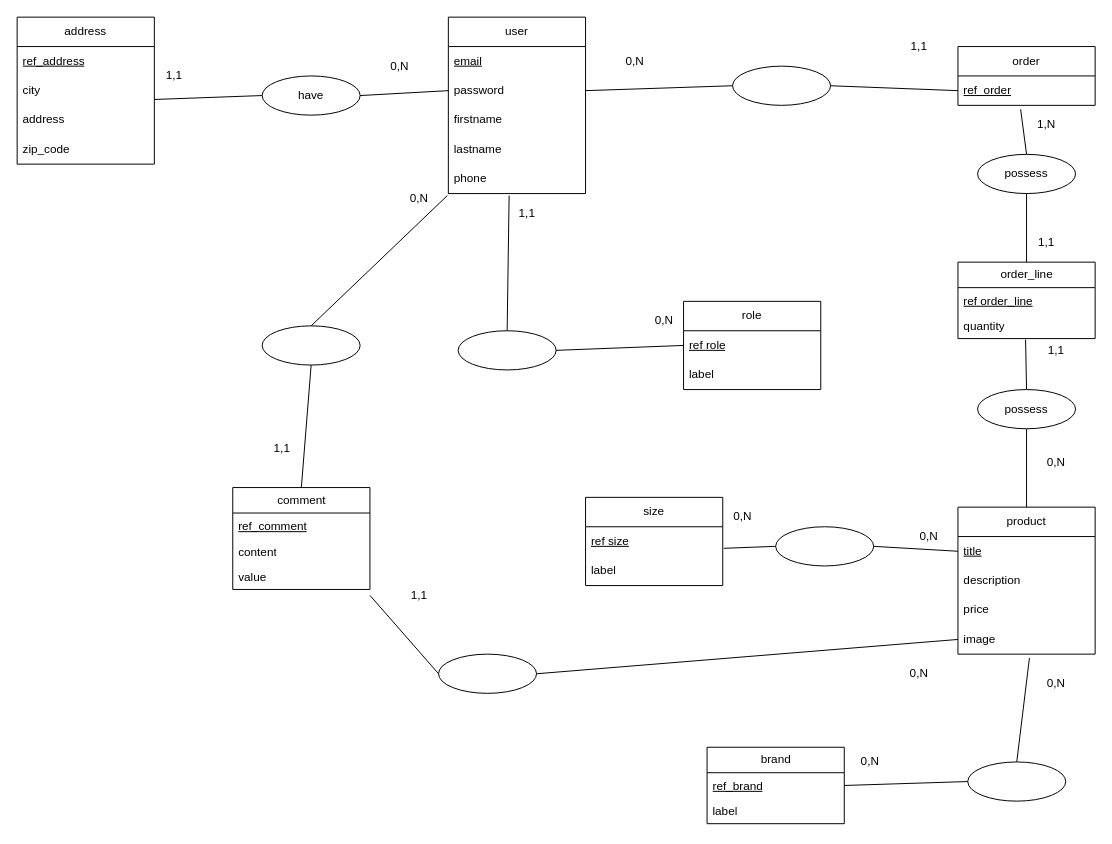
Some shapes in this 1112 by 844 pixel diagram are drawn without their labels. Each missing label, with the centre of its shape:
be: the point at 506,350
be part of: the point at 1016,781
compose: the point at 487,673
include: the point at 824,546
pass: the point at 781,85
post: the point at 310,345
